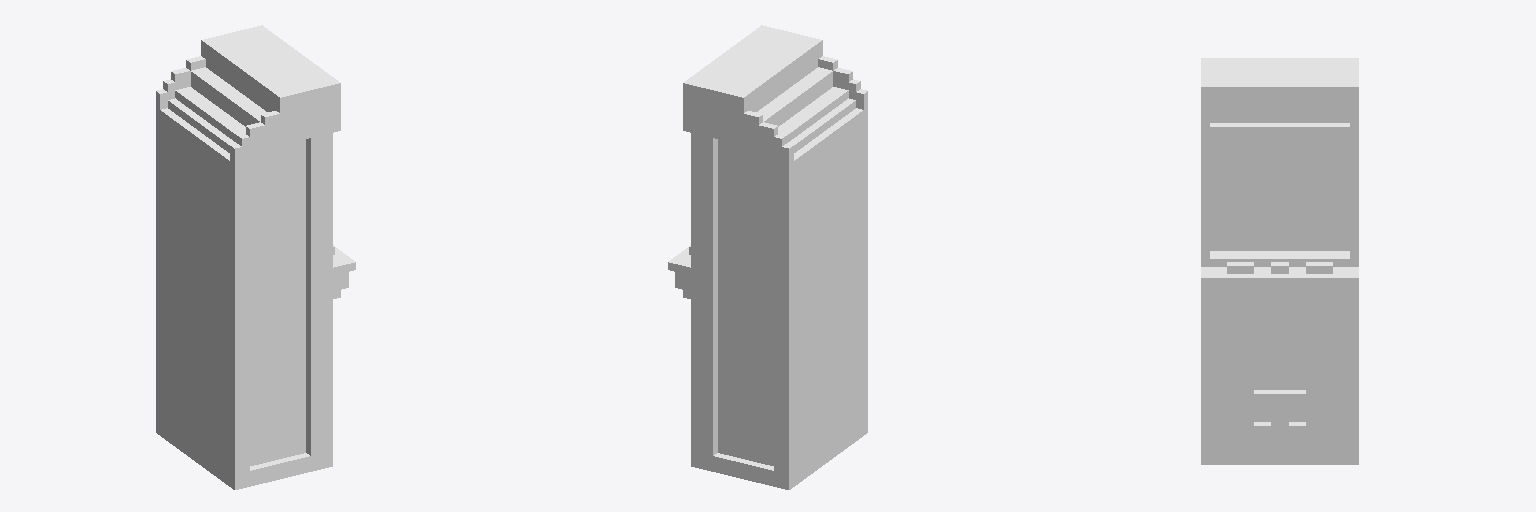
File: ArcadeCabniet.obj
The picture shows the model from 3 angles: view 1: azimuth 30°, elevation 25°; view 2: azimuth 150°, elevation 25°; view 3: azimuth 270°, elevation 25°; orthographic projection.
Parts seen in each view (by area): view 1: object 1; view 2: object 1; view 3: object 1.
Part boxes in pixels (bbox=[...]): object 1: bbox=[156, 25, 355, 489]; object 1: bbox=[668, 25, 867, 489]; object 1: bbox=[1201, 58, 1358, 464].
Size of the model in its own units: 1.6 by 4.8 by 1.8.